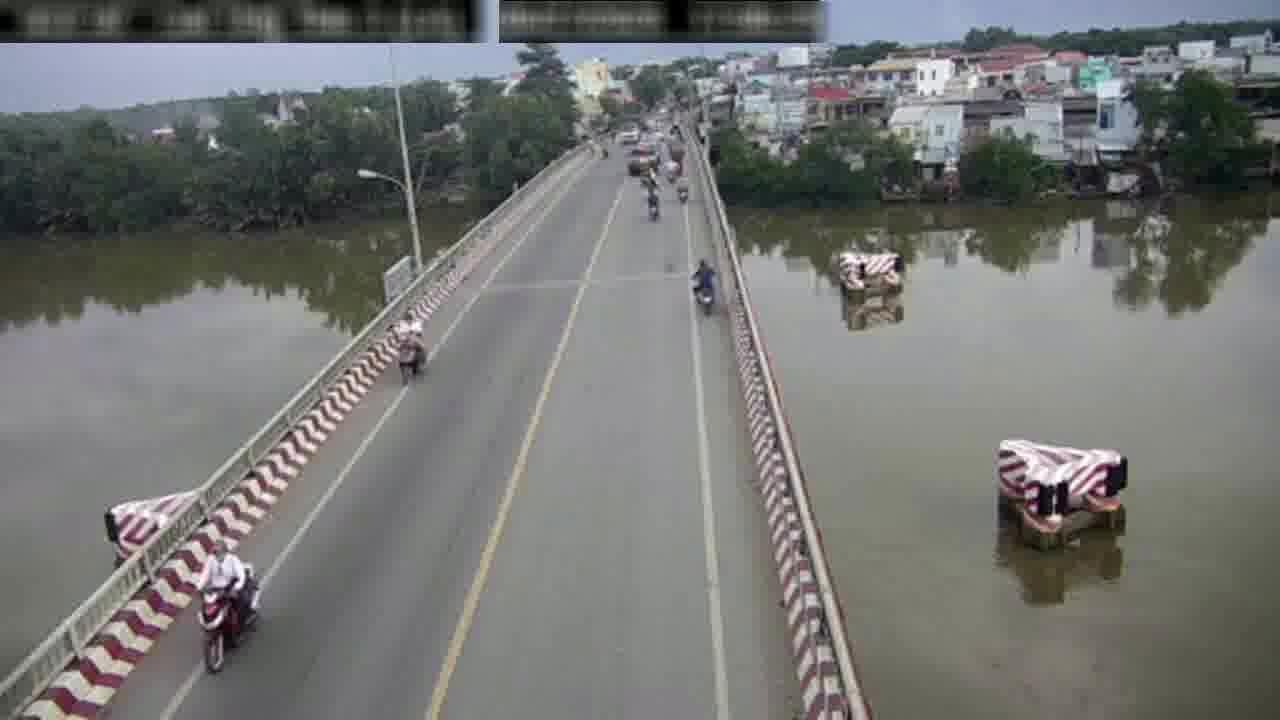motorbike: (194, 536, 263, 677), (396, 306, 429, 390), (691, 256, 719, 319), (643, 187, 662, 223), (675, 173, 688, 207)
